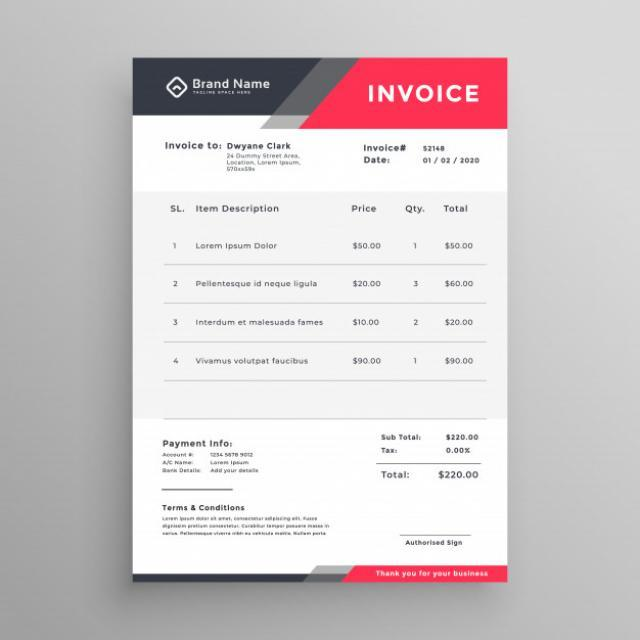customer_address: (223, 152, 303, 176)
customer_name: (225, 140, 292, 150)
invoice_date: (419, 153, 485, 166)
invoice_number: (418, 143, 456, 151)
invoice_subtotal: (443, 430, 484, 442)
invoice_total: (434, 467, 485, 484)
item_description: (191, 236, 326, 377)
item_quantity: (402, 237, 427, 377)
item_total_price: (437, 238, 481, 377)
item_unit_price: (346, 236, 387, 380)
supplier_name: (190, 74, 274, 90)
tax_rate: (442, 445, 478, 458)
